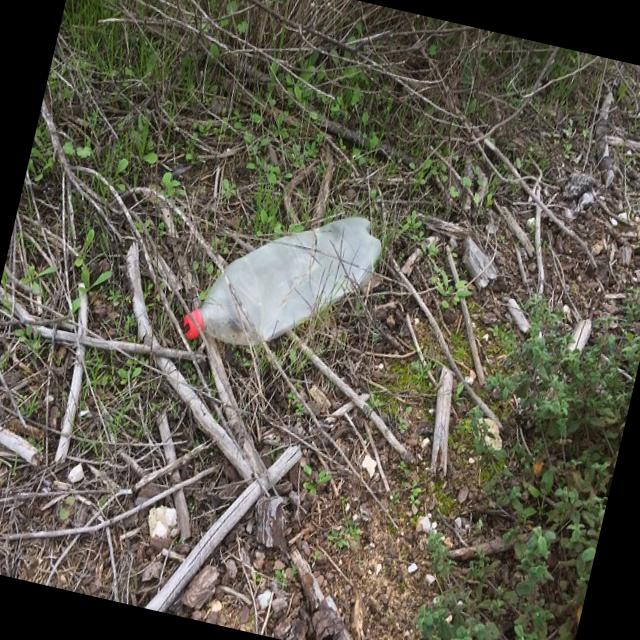Recycle: (178, 180, 390, 382)
